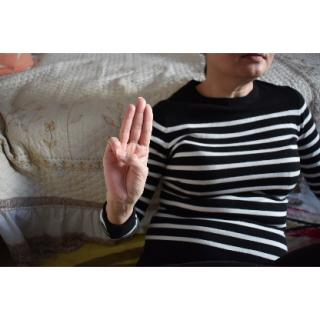THA: (101, 96, 158, 218)
